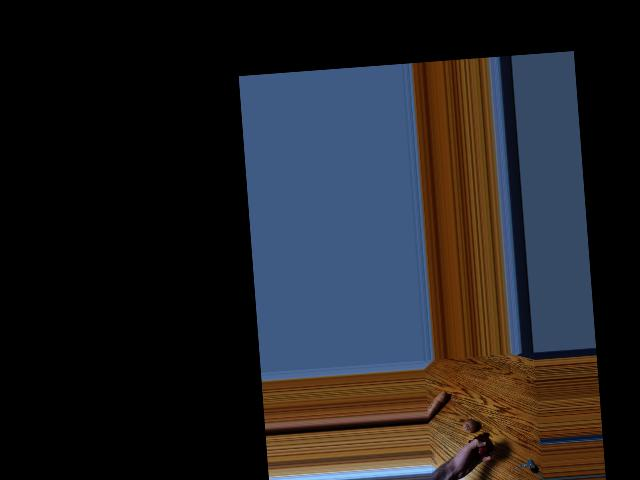onion: (475, 436, 494, 456)
